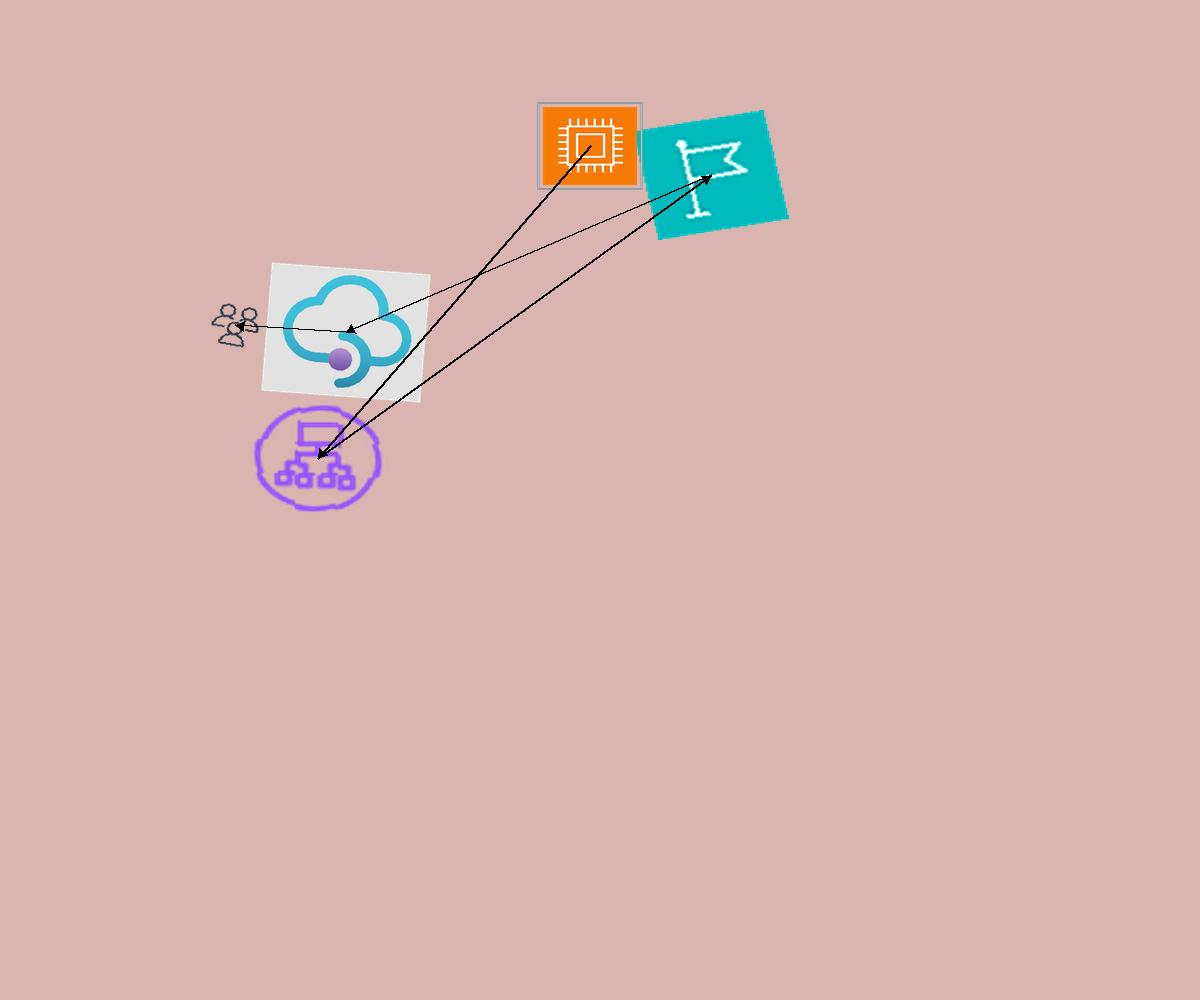AWS-Category_Compute: (536, 101, 644, 191)
AWS-Region: (633, 110, 789, 240)
AWS-Res_Elastic-Load-Balancing_Application-Load-Balancer: (243, 396, 393, 521)
AWS-Res_Users: (204, 299, 267, 352)
Azure_api_gateway: (261, 262, 431, 403)
